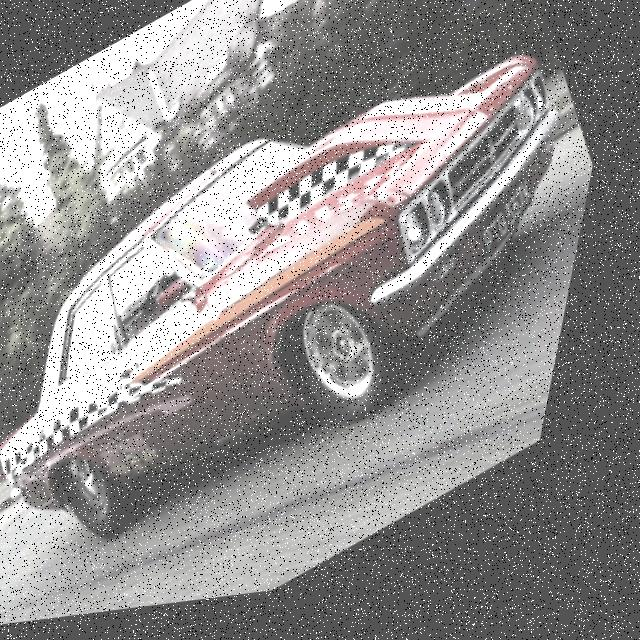license_plate: (474, 182, 567, 274)
